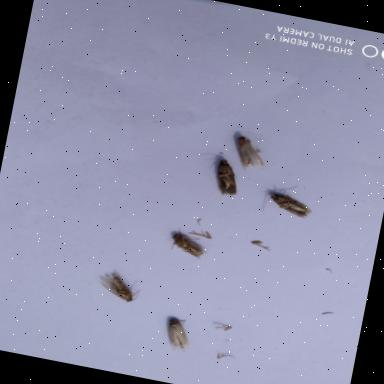pbw: (92, 266, 148, 308), (260, 185, 318, 223), (204, 154, 246, 200), (164, 225, 216, 262), (160, 314, 198, 357), (230, 134, 270, 174)
